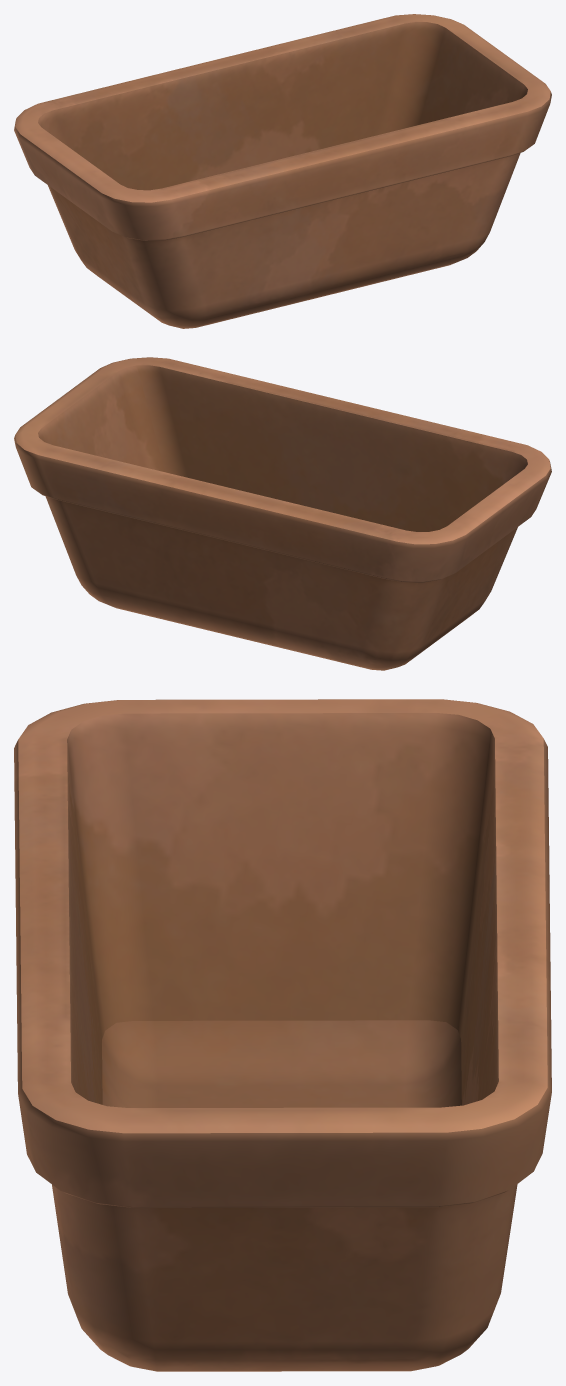
File: SM_Pot_01.fbx
3 views of the same model, one above another, from view 1: azimuth 30°, elevation 25°; view 2: azimuth 150°, elevation 25°; view 3: azimuth 270°, elevation 25° (orthographic). The views are drawn at different scales.
Visible parts, largest first — view 1: SM_Pot_01_LOD0; view 2: SM_Pot_01_LOD0; view 3: SM_Pot_01_LOD0.
Boxes of the visible parts, x1,y1,x2,y2 form: SM_Pot_01_LOD0: (14,14,551,328); SM_Pot_01_LOD0: (14,357,551,670); SM_Pot_01_LOD0: (14,699,551,1371).
Size of the model in its own units: 33.25 by 17.33 by 11.68.
1 material, 1 textured.
